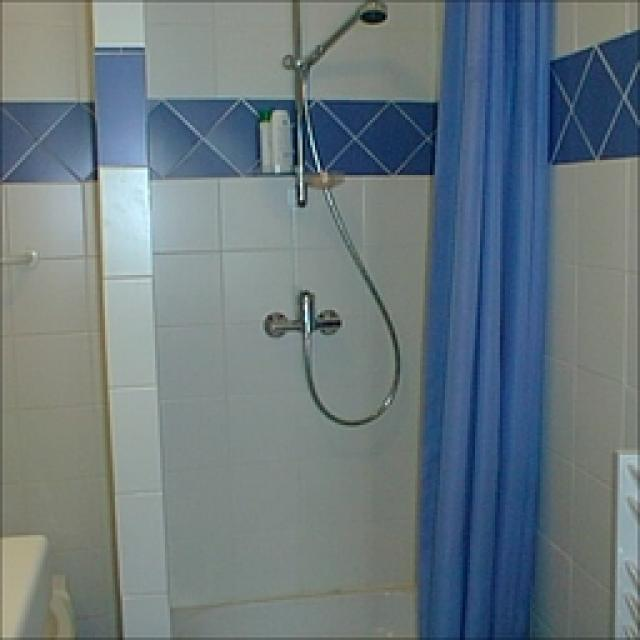shower door handle: (410, 0, 550, 635)
